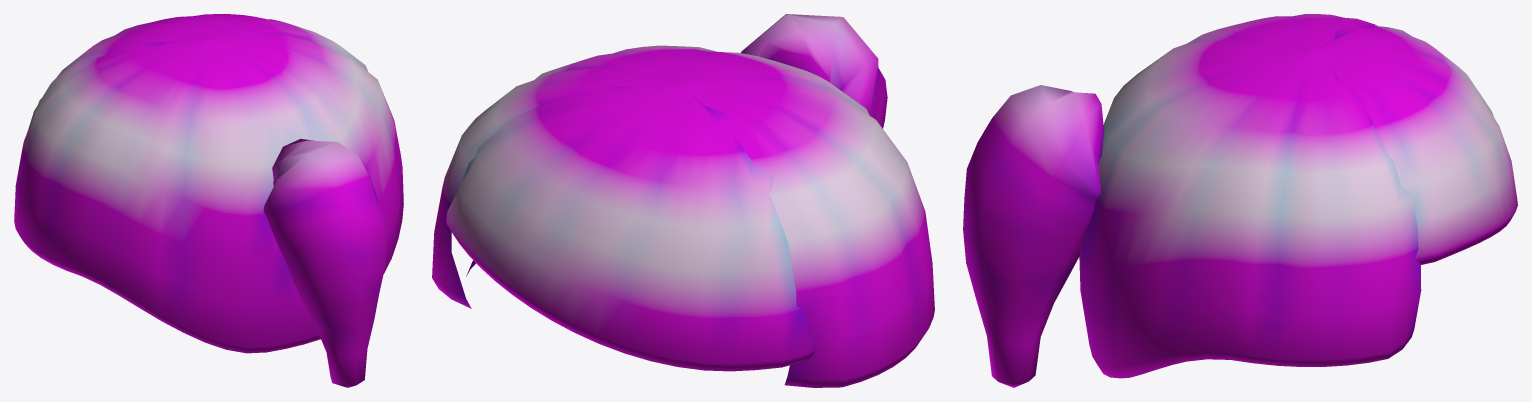
File: ponytail_low.glb
3 renders of one model, left to right at view 1: azimuth 30°, elevation 25°; view 2: azimuth 150°, elevation 25°; view 3: azimuth 270°, elevation 25°, orthographic. The views are drawn at different scales.
Parts seen in each view (by area): view 1: ponytail; view 2: ponytail; view 3: ponytail.
Boxes of the visible parts, <box> form: ponytail: <box>14,14,403,387</box>; ponytail: <box>432,14,934,387</box>; ponytail: <box>963,14,1517,387</box>.
Size of the model in its own units: 0.9054 by 0.654 by 1.02.
